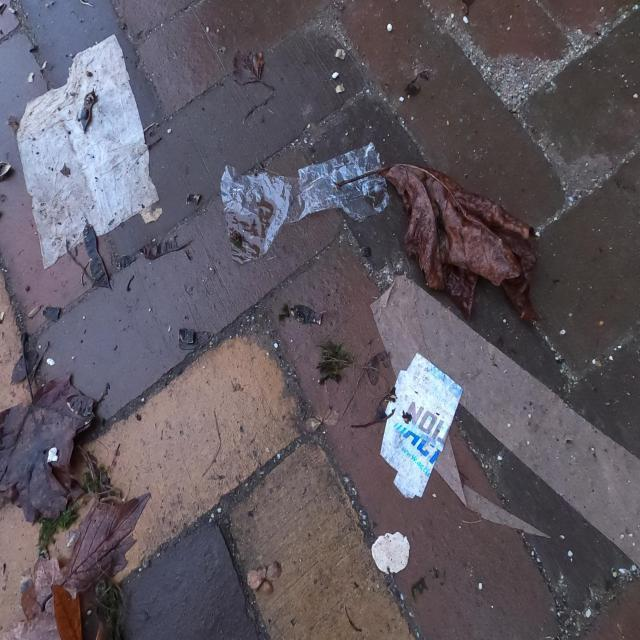Paper: (387, 352, 455, 494)
